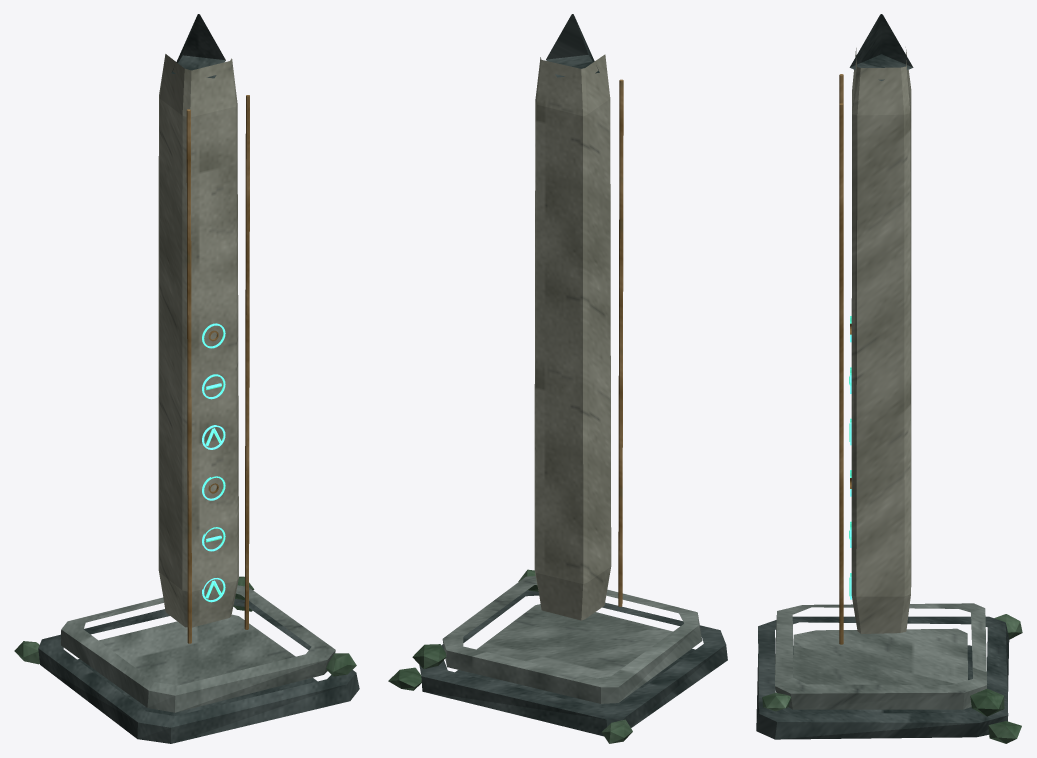
The model's file is 0485_obelisk_10.glb.
The picture shows the model from 3 angles, left to right: view 1: azimuth 30°, elevation 25°; view 2: azimuth 150°, elevation 25°; view 3: azimuth 270°, elevation 25°; orthographic projection. The views are drawn at different scales.
Parts seen in each view (by area): view 1: stone_light, stone, stone_dark, brass, glow, moss; view 2: stone_light, stone, stone_dark, brass, moss; view 3: stone_light, stone, stone_dark, brass, moss.
Boxes of the visible parts, left/top/right/bottom form: stone_light: left=158, top=54, right=238, bottom=627; stone: left=61, top=585, right=335, bottom=712; stone_dark: left=38, top=14, right=359, bottom=743; brass: left=186, top=95, right=249, bottom=643; glow: left=202, top=323, right=225, bottom=602; moss: left=14, top=576, right=356, bottom=676; stone_light: left=534, top=54, right=611, bottom=620; stone: left=442, top=576, right=702, bottom=703; stone_dark: left=419, top=14, right=727, bottom=736; brass: left=618, top=79, right=623, bottom=606; moss: left=388, top=569, right=632, bottom=743; stone_light: left=851, top=47, right=911, bottom=633; stone: left=775, top=603, right=986, bottom=709; stone_dark: left=756, top=14, right=1009, bottom=739; brass: left=839, top=74, right=851, bottom=644; moss: left=762, top=614, right=1022, bottom=743.
Bounding box in the file's own units: 2.1 × 5.59 × 2.
6 materials, 6 textured.
